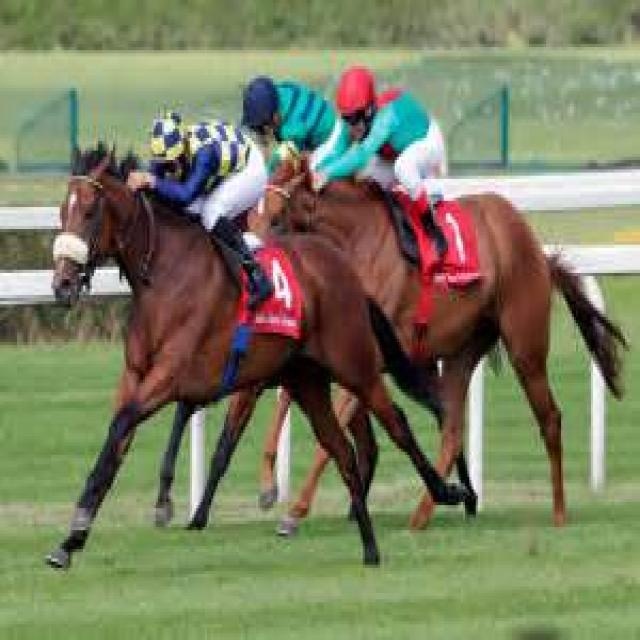animal: (43, 140, 398, 598)
